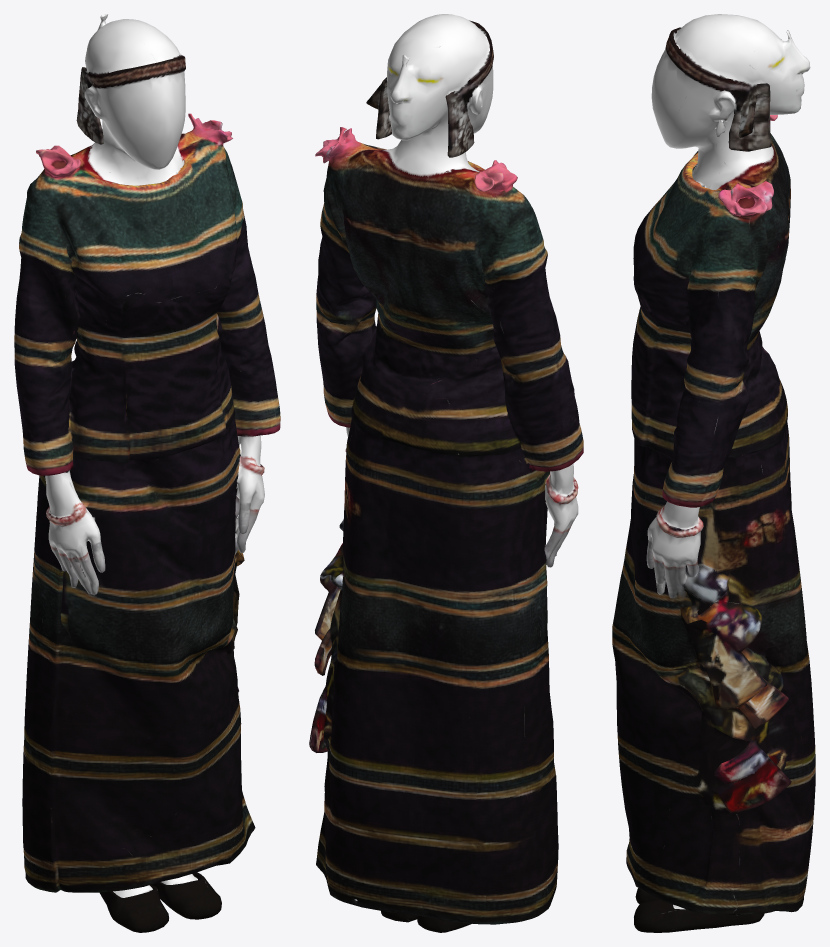
The model's file is B_rau_nu_00001.glb.
3 renders of one model, left to right at view 1: azimuth 30°, elevation 25°; view 2: azimuth 150°, elevation 25°; view 3: azimuth 270°, elevation 25°, orthographic. The views are drawn at different scales.
Bounding box in the file's own units: 0.2854 × 0.9721 × 0.2005.
Materials: 1 (1 with a texture image).
